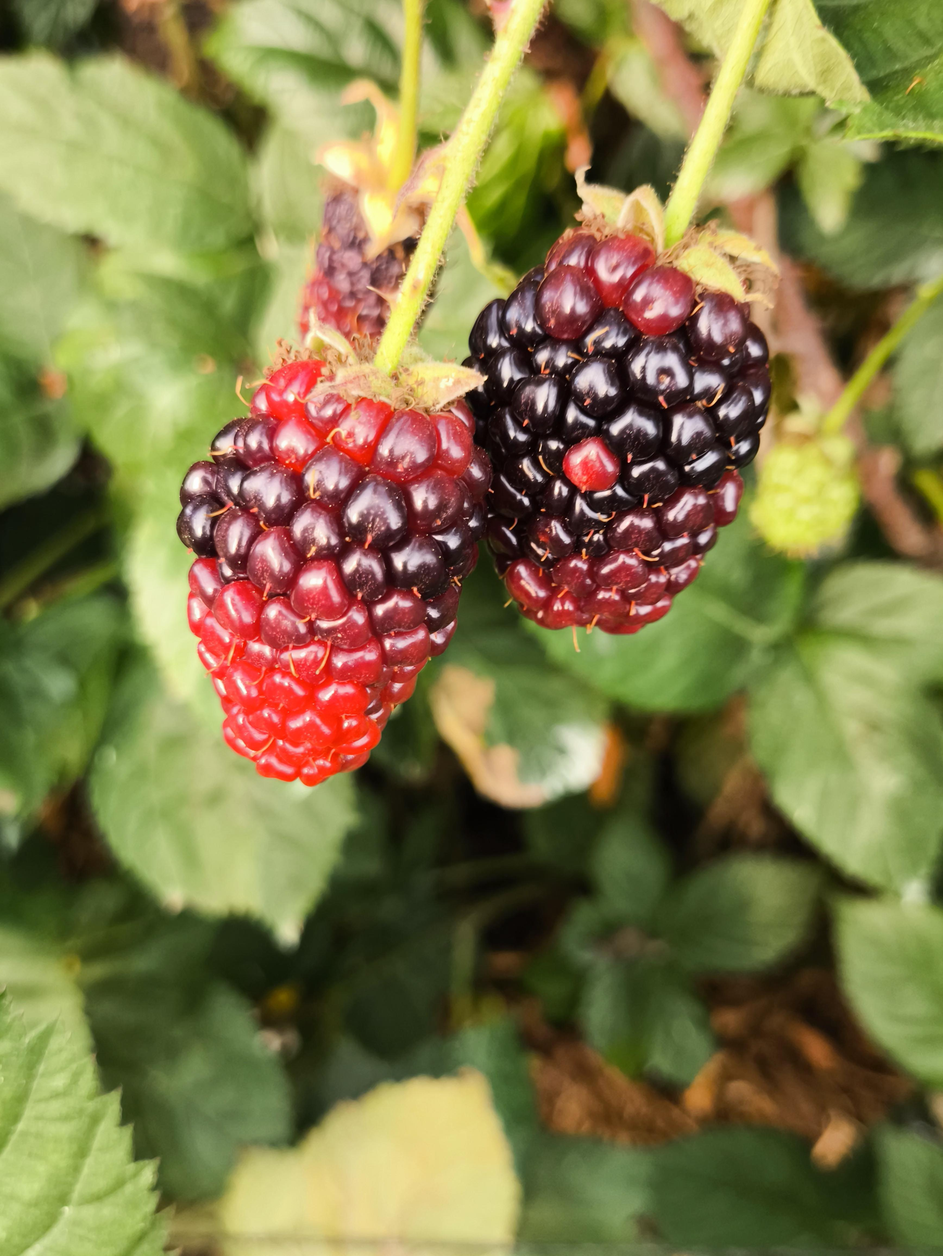maduro: (478, 224, 765, 636), (186, 372, 463, 775)
